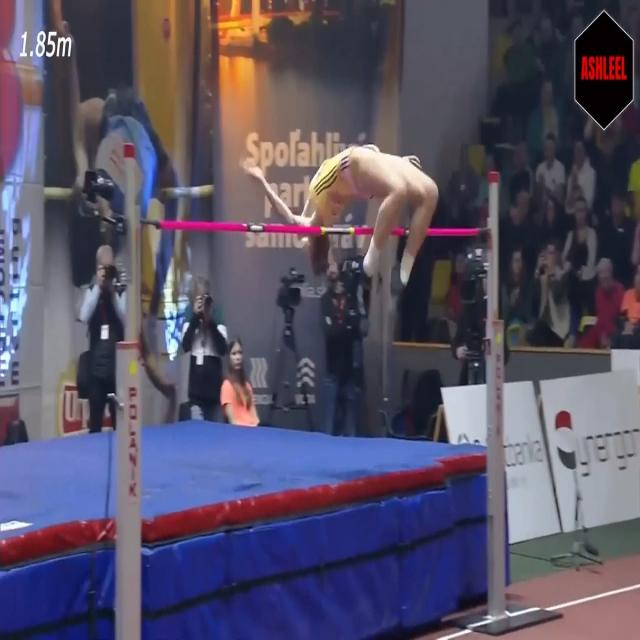jump: (241, 142, 437, 322)
